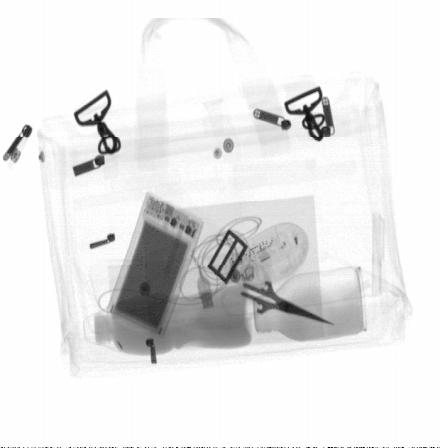Powerbank: (104, 189, 205, 337)
Scissors: (218, 255, 342, 327)
